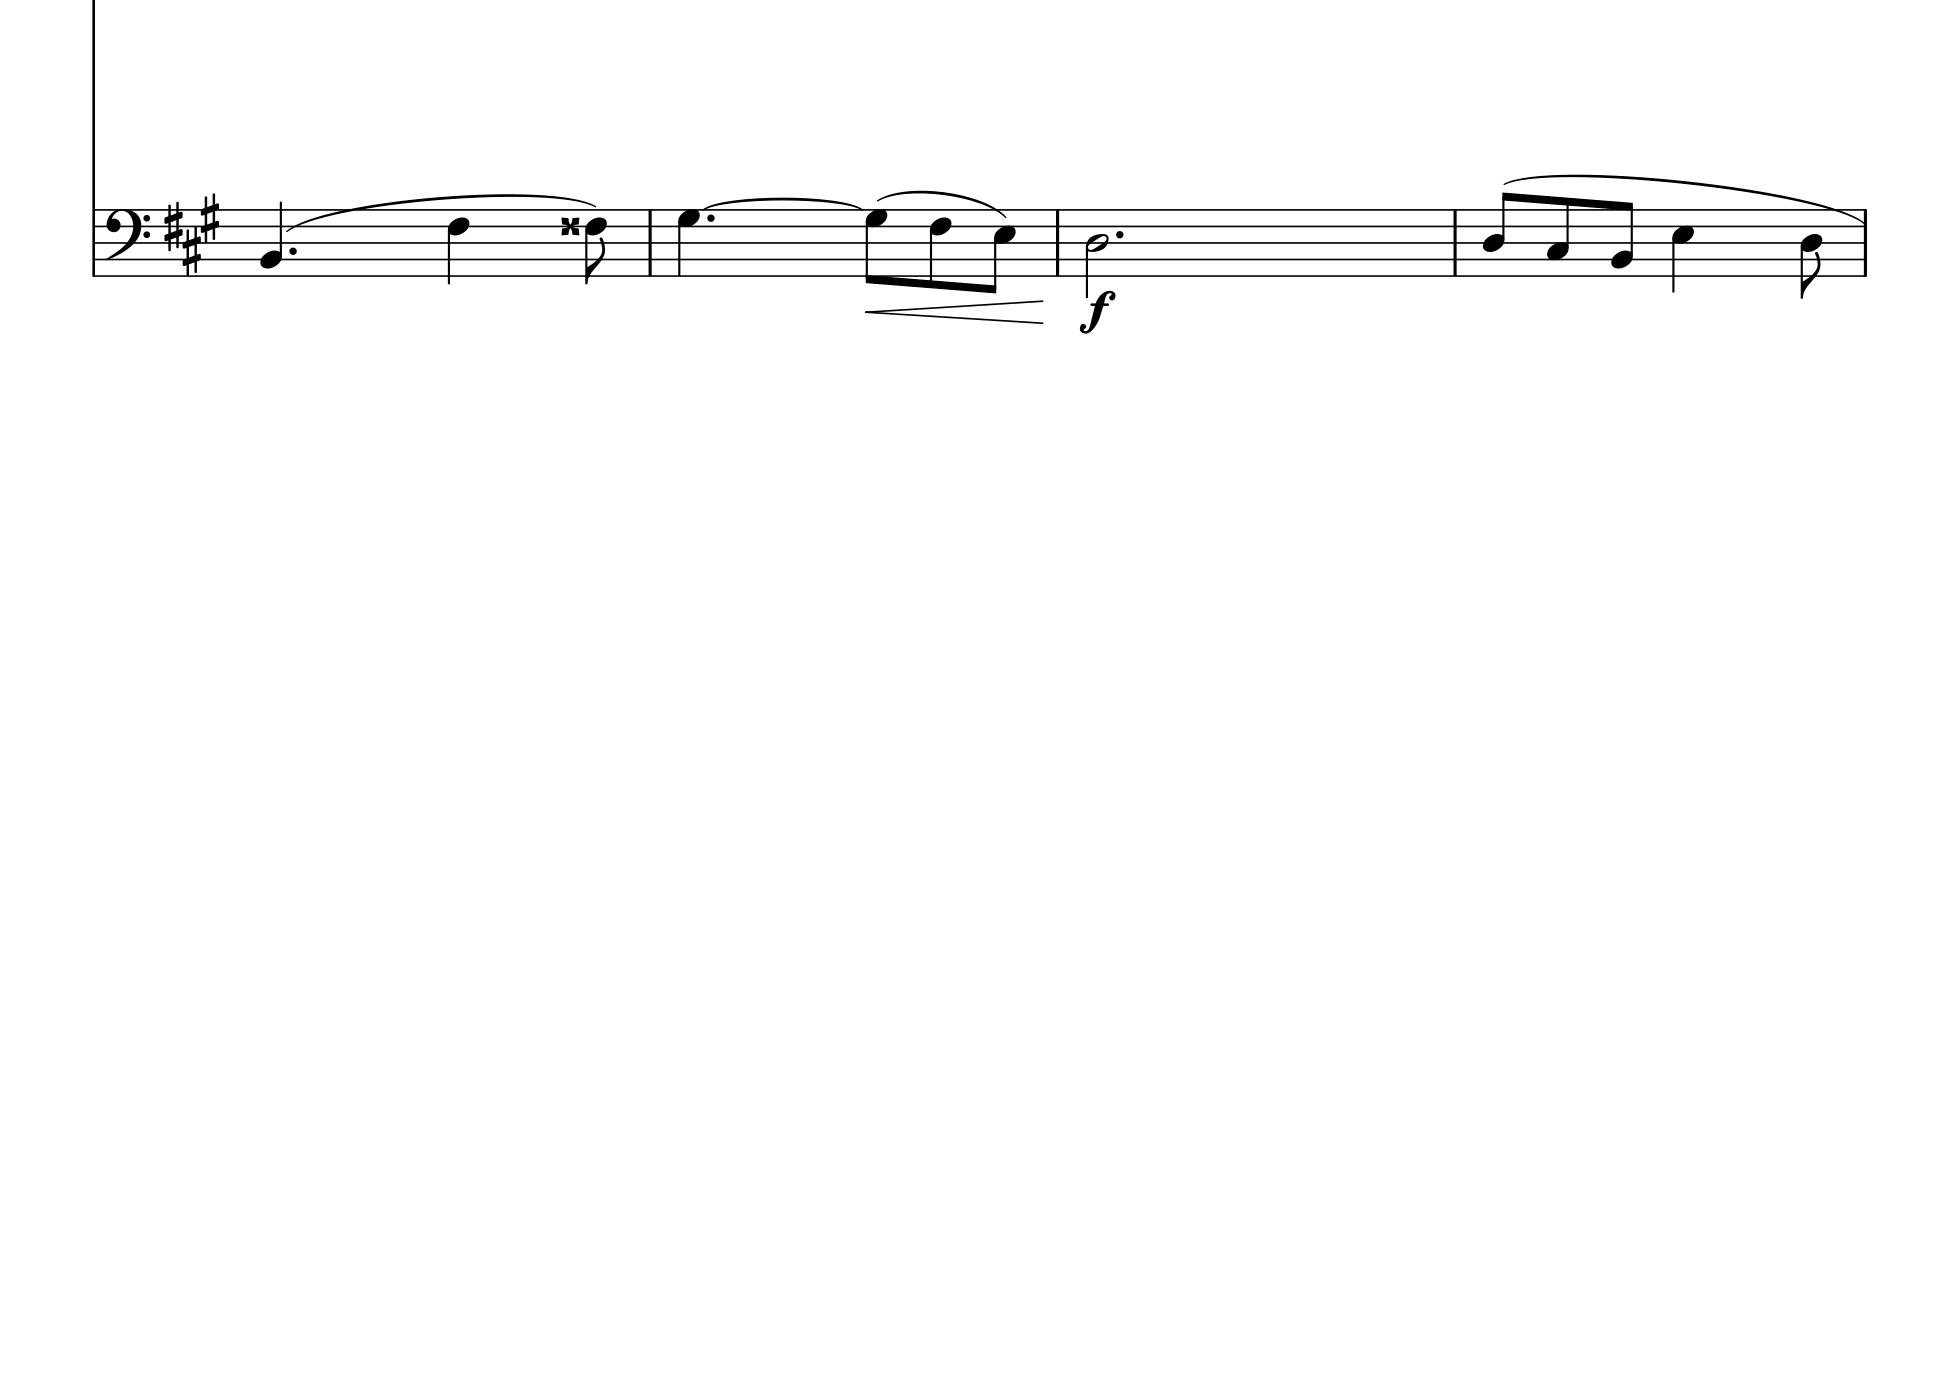2_4: (1084, 208, 1110, 298)
4_2: (259, 199, 283, 277)
4_5: (1672, 208, 1696, 295)
4_6: (445, 208, 469, 285)
4_7: (676, 208, 700, 279)
8_2: (1611, 199, 1636, 279)
8_3: (1546, 195, 1572, 276)
8_4: (1482, 190, 1518, 276), (1798, 210, 1825, 298)
8_5: (987, 208, 1017, 295)
8_6: (928, 208, 952, 291), (583, 208, 607, 285)
8_7: (865, 207, 889, 285)
A_S: (162, 192, 220, 276)
Crescendo_hairpin: (865, 298, 1044, 325)
DSharp: (558, 214, 582, 238)
Flat: (105, 208, 153, 277)
Single_barline: (642, 210, 658, 274), (1447, 210, 1464, 274), (85, 208, 100, 277), (1857, 210, 1872, 276), (1051, 210, 1065, 274)
Slur: (283, 195, 595, 234), (876, 189, 1011, 219)
dot: (1113, 226, 1128, 241), (703, 211, 715, 223), (286, 244, 298, 256)
f: (1080, 289, 1117, 334)
